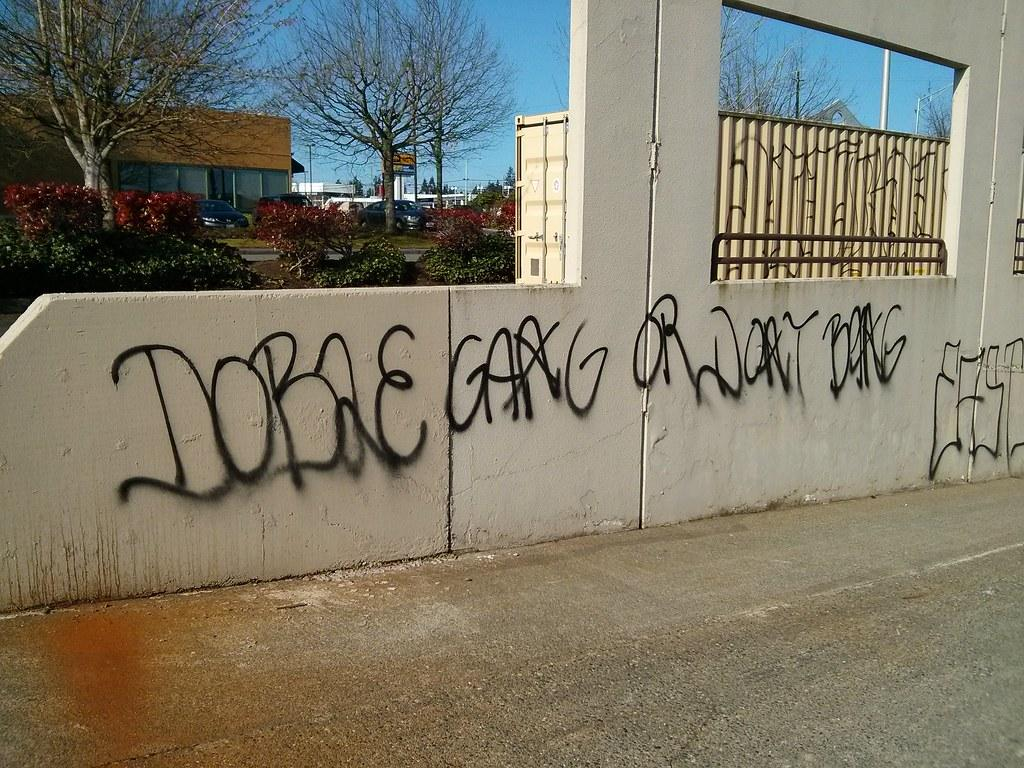graffiti: (107, 319, 436, 506), (441, 307, 621, 438), (624, 296, 818, 410), (929, 338, 1024, 485), (821, 298, 914, 404)
